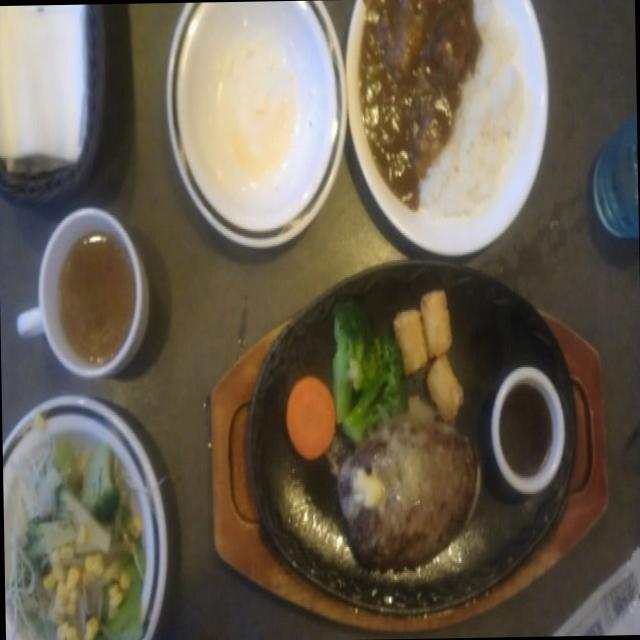Beef Curry: (349, 0, 469, 196)
